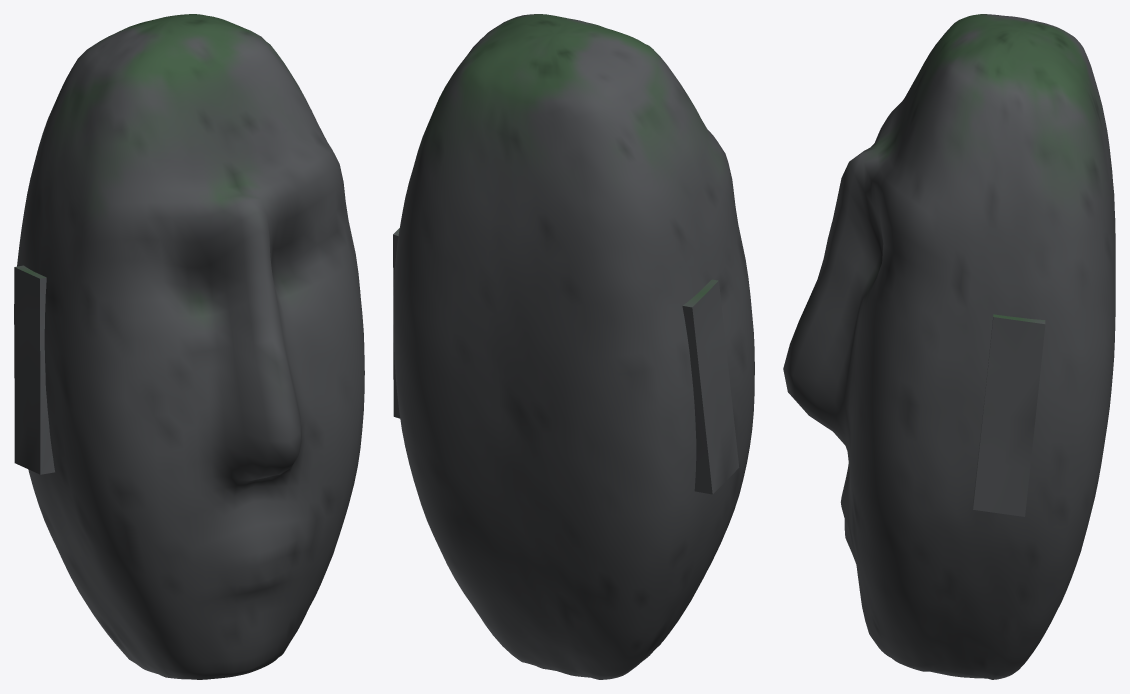
The model's file is moai.glb.
The picture shows the model from 3 angles, left to right: view 1: azimuth 30°, elevation 25°; view 2: azimuth 150°, elevation 25°; view 3: azimuth 270°, elevation 25°; orthographic projection. The views are drawn at different scales.
Parts seen in each view (by area): view 1: moai-head, moai-ears; view 2: moai-head, moai-ears; view 3: moai-head, moai-ears.
Part boxes in pixels (bbox=[...]): moai-head: bbox=[14, 14, 364, 679]; moai-ears: bbox=[14, 265, 54, 474]; moai-head: bbox=[393, 14, 754, 679]; moai-ears: bbox=[393, 228, 739, 494]; moai-head: bbox=[783, 14, 1115, 679]; moai-ears: bbox=[973, 314, 1045, 516].
Bounding box in the file's own units: 130 × 250 × 120.
